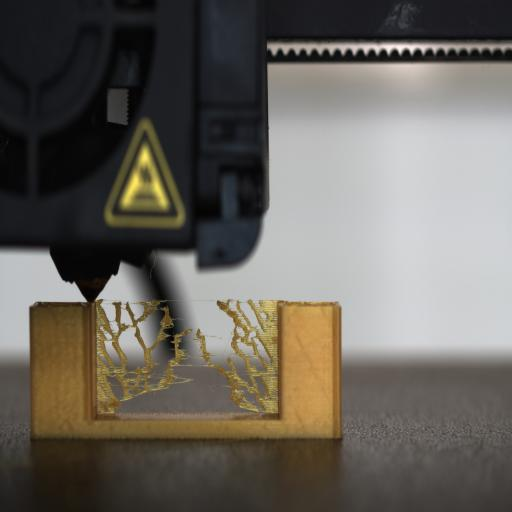stringing: (96, 297, 278, 414)
